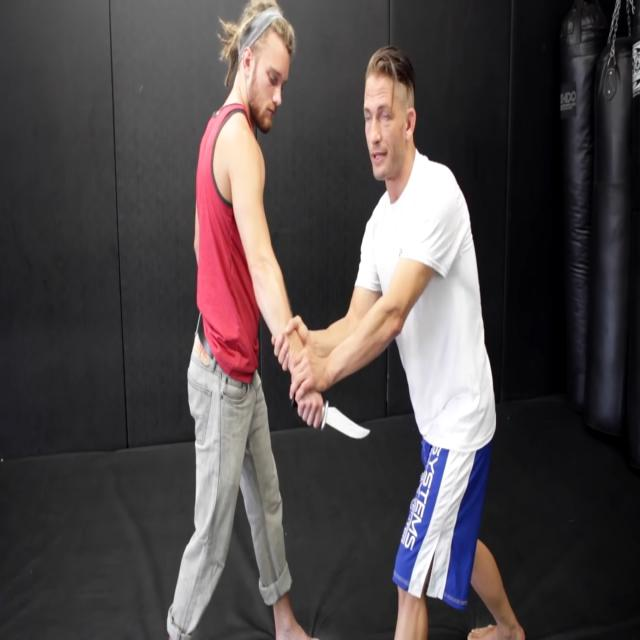knife: (324, 399, 372, 448)
